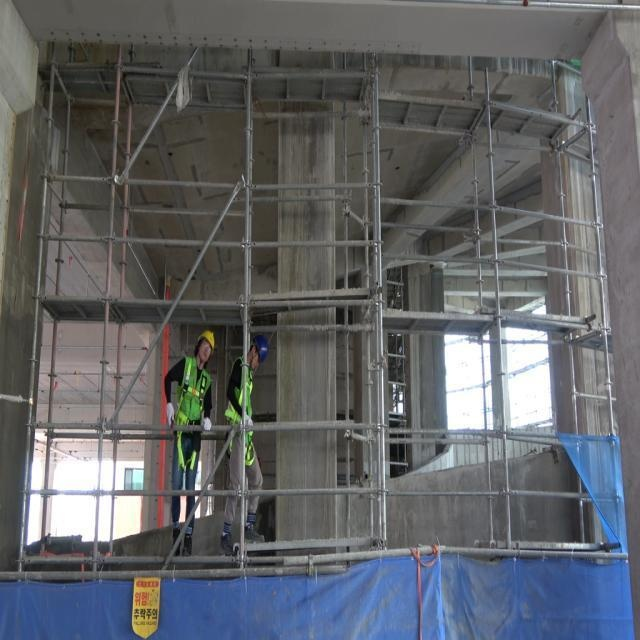Arnes_seguridad: (176, 361, 208, 467), (231, 363, 259, 465)
